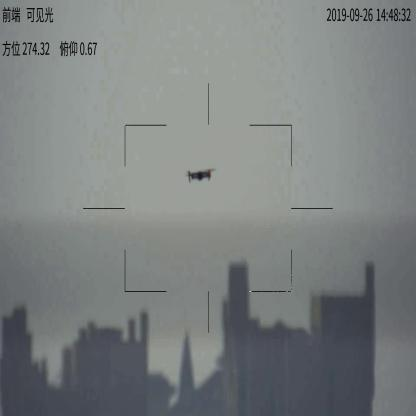uav: (184, 168, 214, 184)
